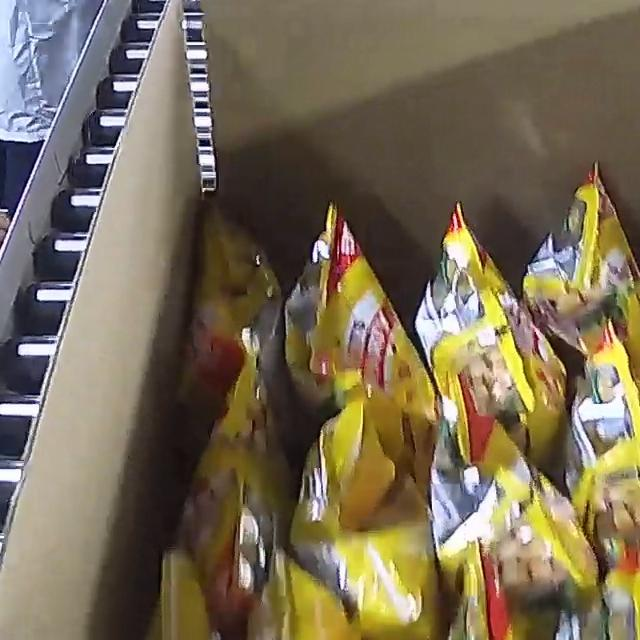salted: (152, 160, 640, 640)
